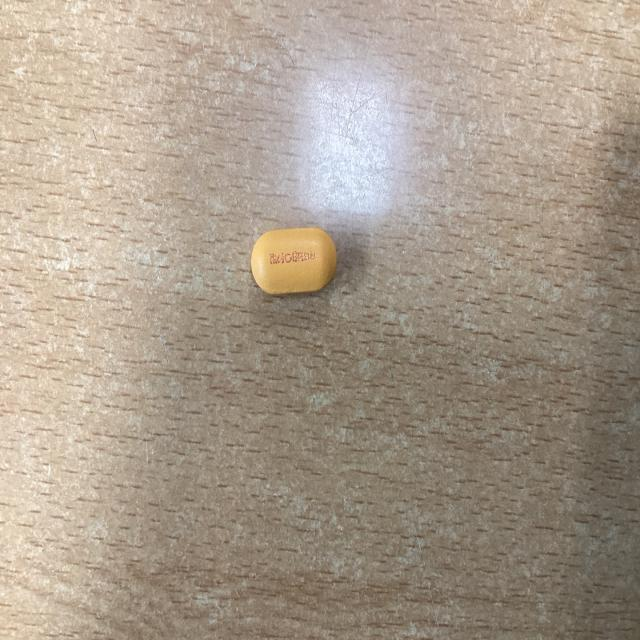-: (238, 212, 354, 308)
